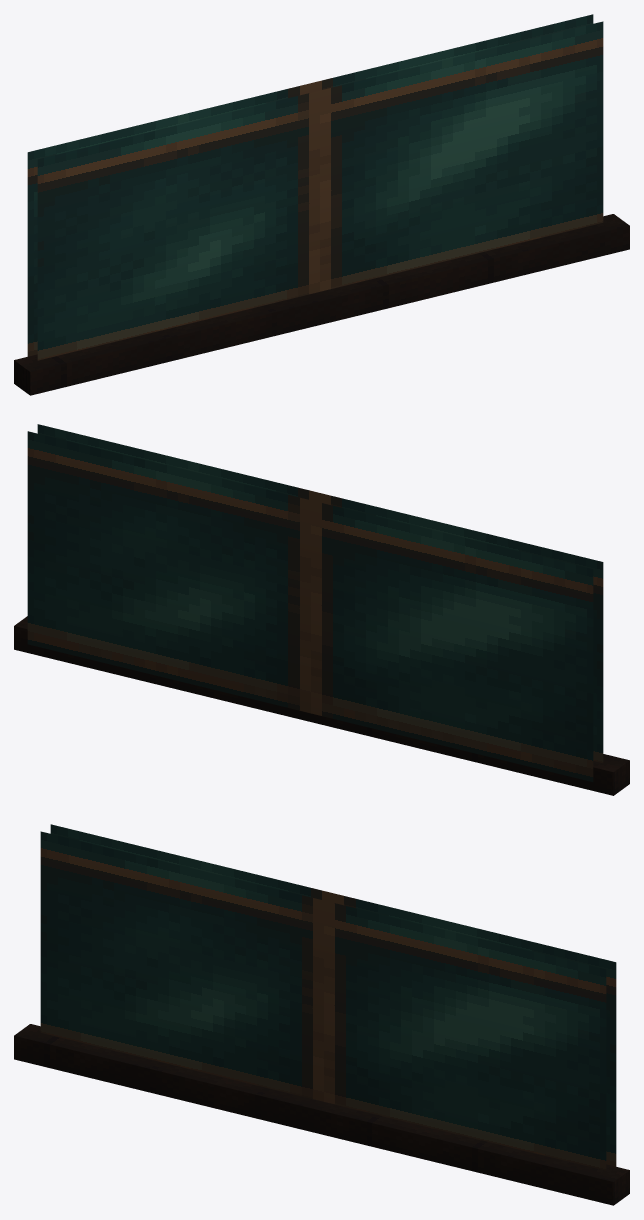
File: prop_transom.glb
The picture shows the model from 3 angles, top to bottom: view 1: azimuth 30°, elevation 25°; view 2: azimuth 150°, elevation 25°; view 3: azimuth 330°, elevation 25°; orthographic projection.
Visible parts, largest first — view 1: prop_transom; view 2: prop_transom; view 3: prop_transom.
Boxes of the visible parts, x1,y1,x2,y2 form: prop_transom: (14, 14, 629, 395); prop_transom: (14, 424, 629, 795); prop_transom: (14, 824, 629, 1205).
Bounding box in the file's own units: 1.06 × 0.38 × 0.06.
2 materials, 2 textured.
